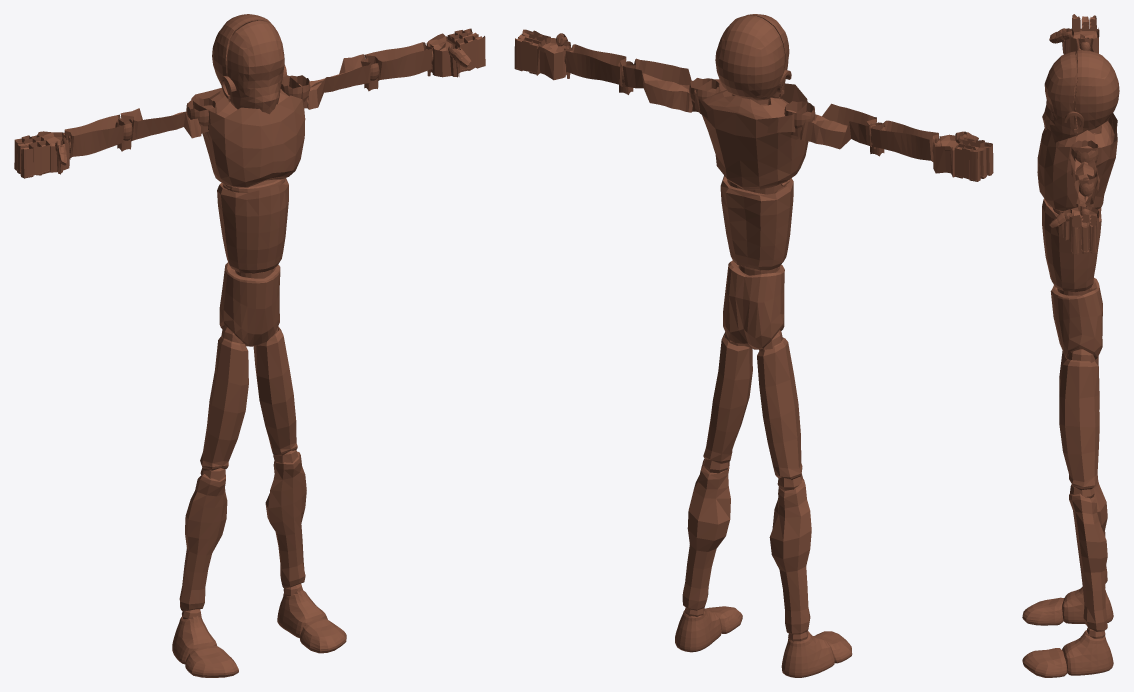
File: 161da118-142d-4a3d-9bcd-9b01c9e7c507.glb
3 views of the same model, side by side, from view 1: azimuth 30°, elevation 25°; view 2: azimuth 150°, elevation 25°; view 3: azimuth 270°, elevation 25° (orthographic). The views are drawn at different scales.
Parts seen in each view (by area): view 1: base_mannequin.glb, base_mannequin.glb_2; view 2: base_mannequin.glb, base_mannequin.glb_2; view 3: base_mannequin.glb, base_mannequin.glb_2.
Boxes of the visible parts, box(x1,y1,x2,y2) form: base_mannequin.glb: box(14, 14, 485, 677); base_mannequin.glb_2: box(62, 46, 433, 619); base_mannequin.glb: box(514, 14, 993, 677); base_mannequin.glb_2: box(564, 48, 941, 641); base_mannequin.glb: box(1022, 14, 1119, 677); base_mannequin.glb_2: box(1053, 42, 1105, 638).
Bounding box in the file's own units: 1.64 × 2.13 × 0.3162.
Materials: 3 (3 with a texture image).
